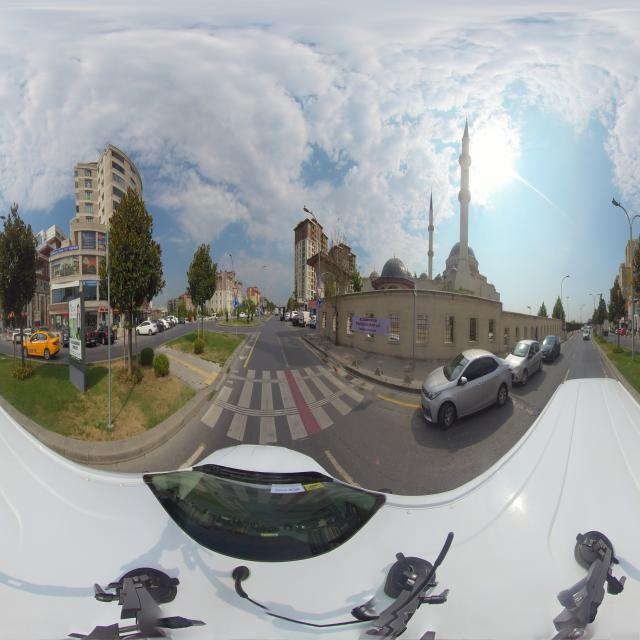SignStore: (85, 312, 97, 316), (99, 307, 108, 312), (114, 309, 118, 314), (142, 306, 146, 311)
